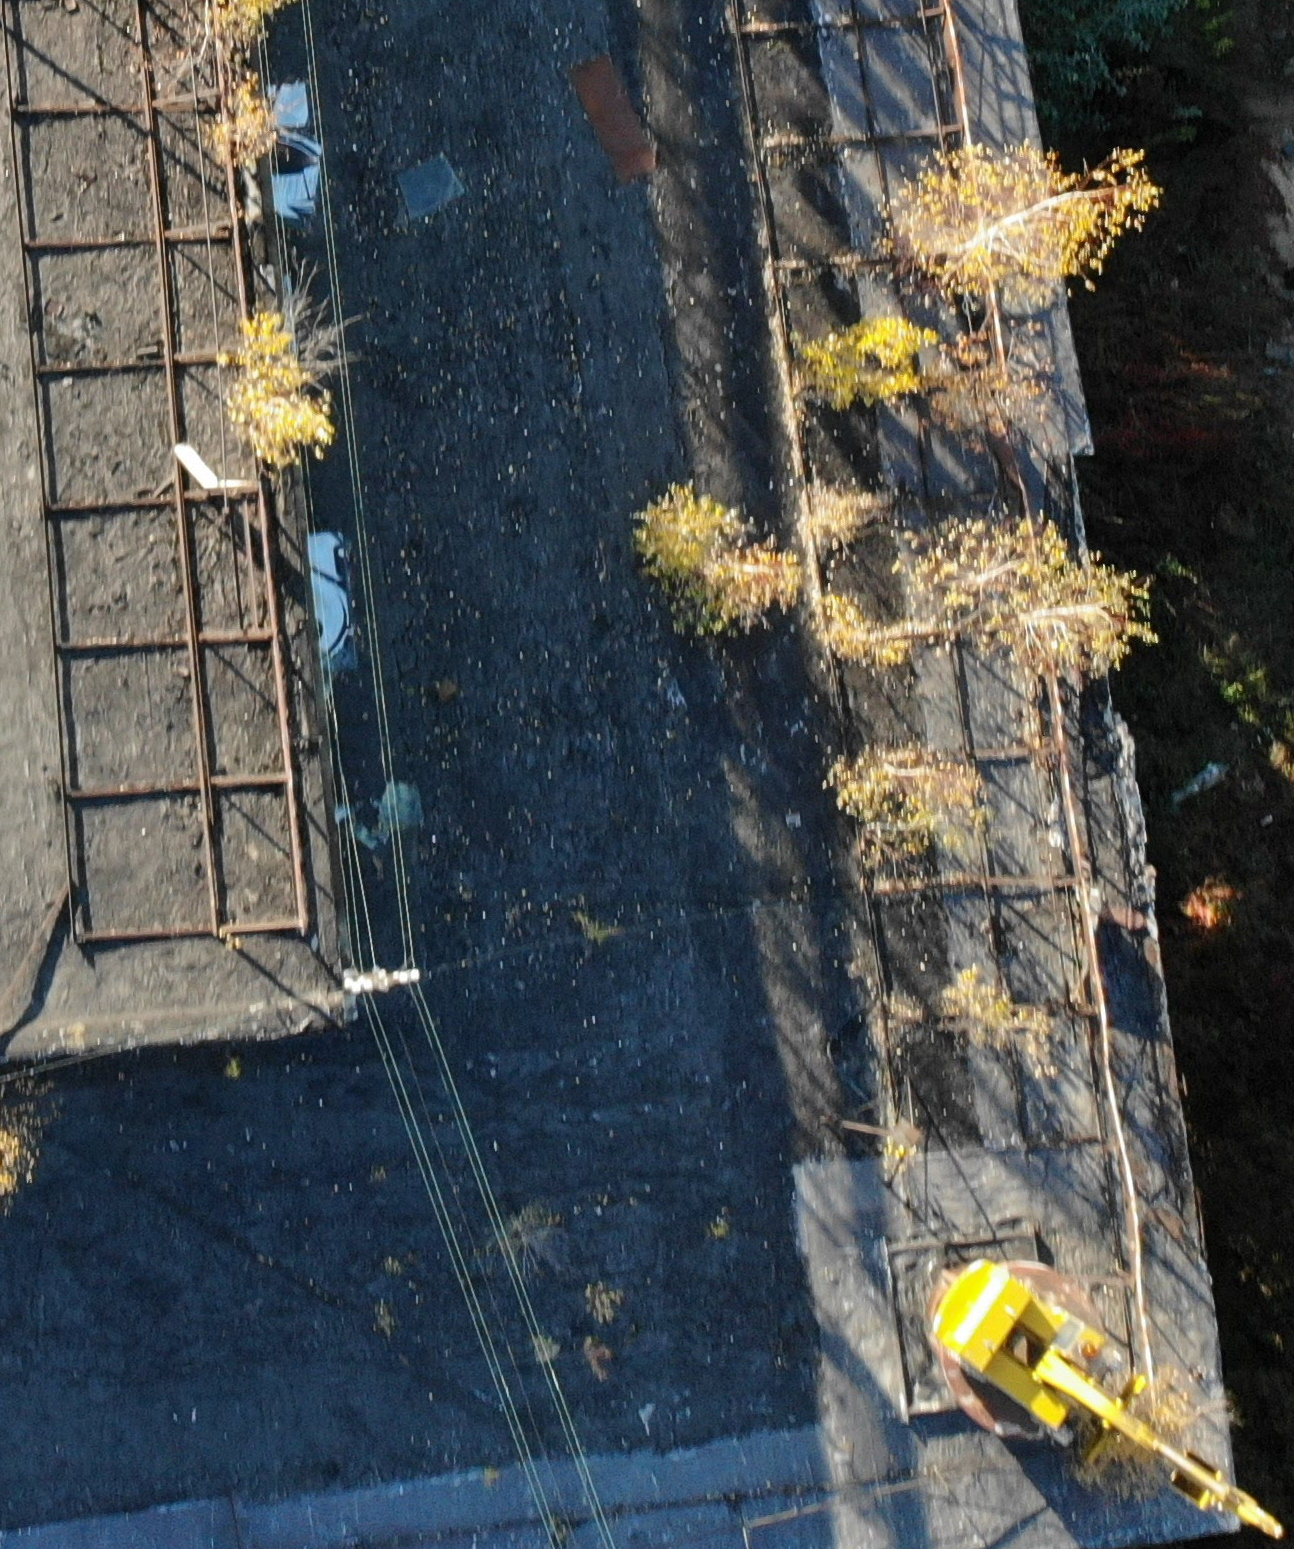tree: (870, 107, 1162, 367), (916, 495, 1171, 736), (184, 266, 403, 508), (806, 682, 1016, 892), (776, 268, 974, 484), (632, 449, 803, 666), (907, 933, 1098, 1106), (203, 75, 325, 225)
